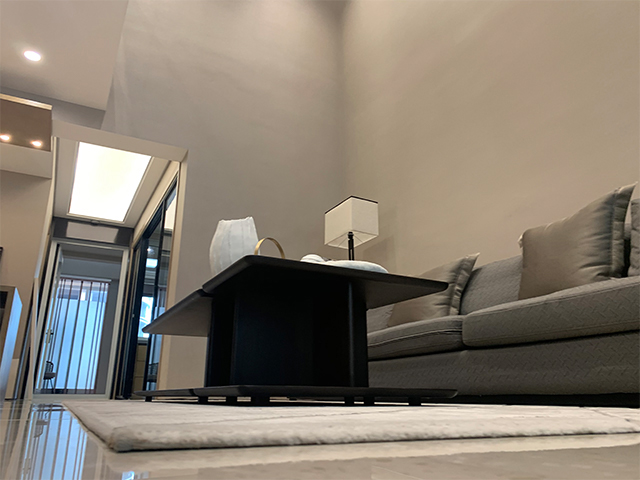carpet: (61, 399, 640, 454)
sofa: (366, 180, 640, 405)
table: (133, 253, 461, 406)
